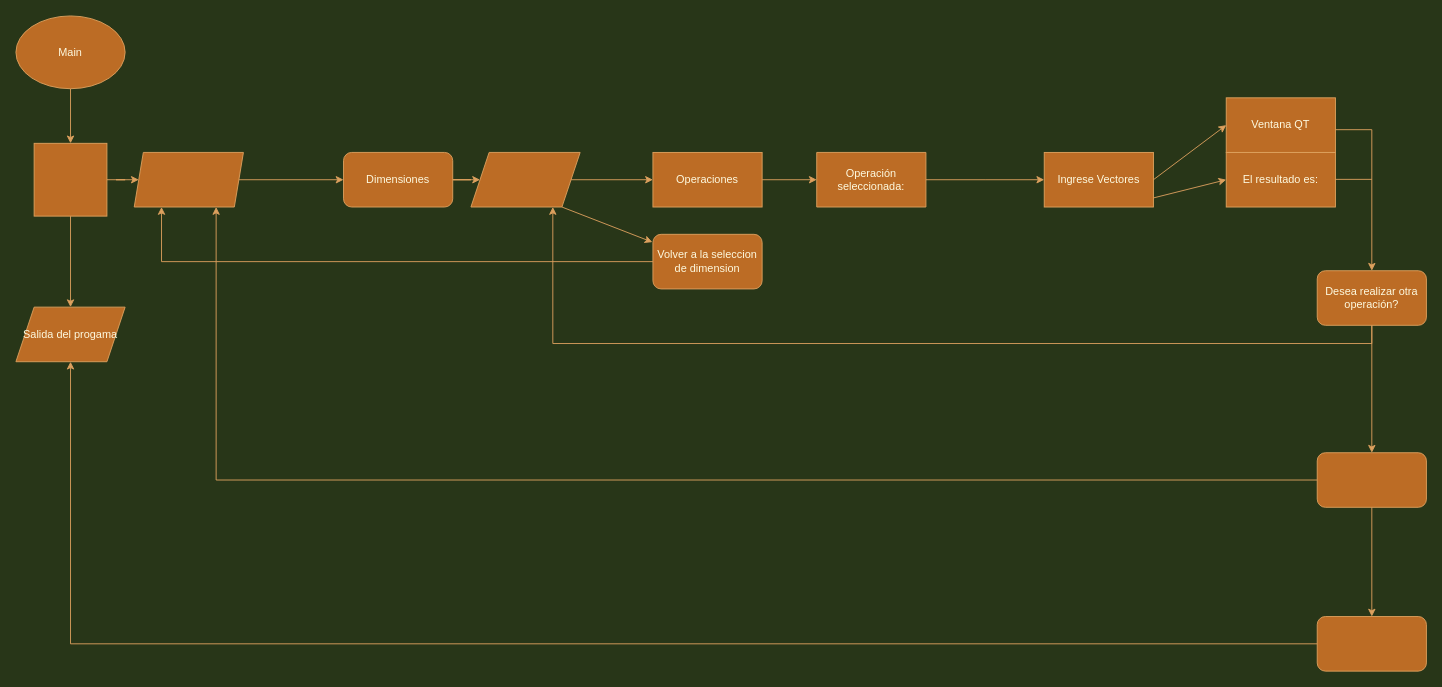
Some shapes in this 1442 by 687 pixel diagram are drawn without their labels. The centre of each missing label's shape, as x and y in pixels:
Cambiar dimensión del vector: (x=1371, y=479)
Elegir dimension de vector: (x=188, y=179)
Elegir la operacion: (x=525, y=179)
Opciones: (x=70, y=179)
Salir del progama: (x=1371, y=643)
